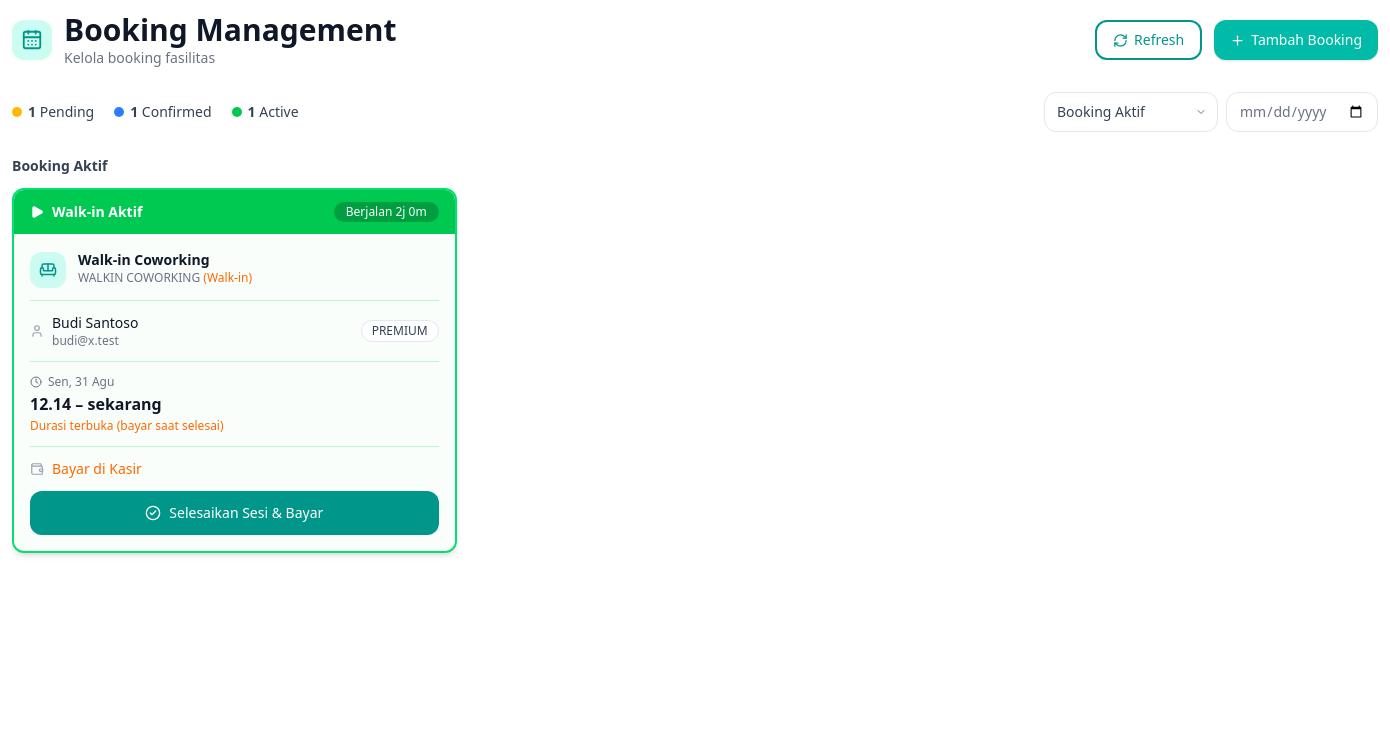
Test: BookingsClient (AC-841) › surfaces INVALID_TRANSITION inline on the row when activation fails
Select "Semua Booking" in the dropdown showing "Booking Aktif": {"x": 1131, "y": 112} x1=1044 y1=92 x2=1218 y2=132
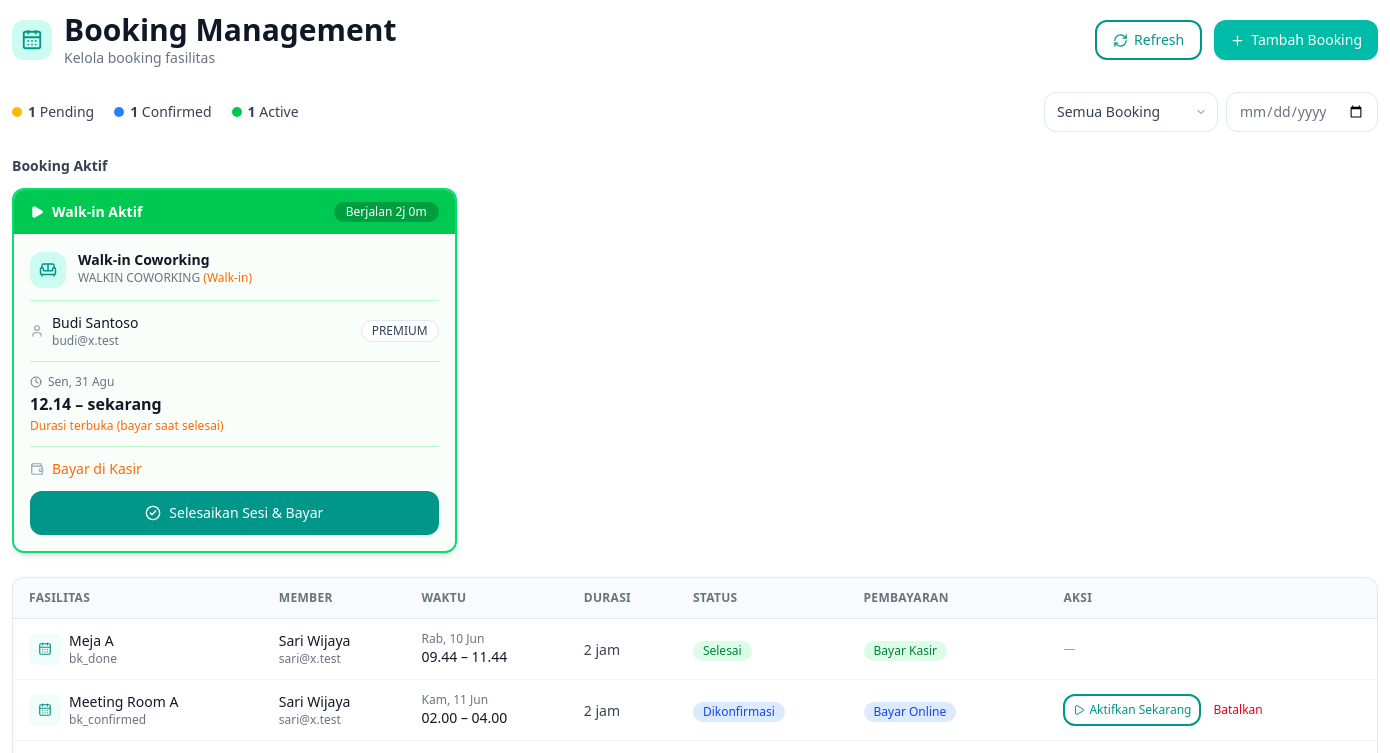
Click the button "Aktifkan Sekarang": {"x": 1132, "y": 710} x1=1063 y1=694 x2=1202 y2=726
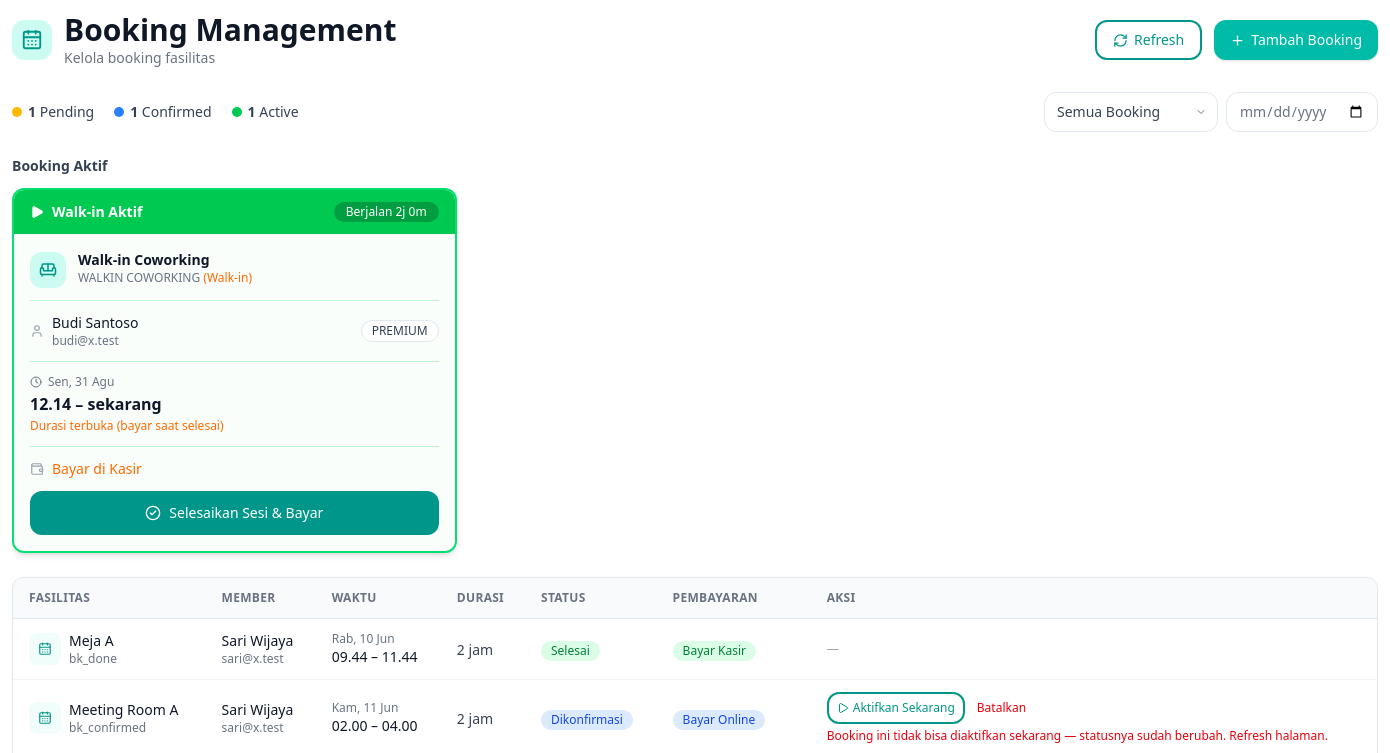
Result: the message shows "tidak bisa diaktifkan" at x1=827 y1=727 x2=1328 y2=744
